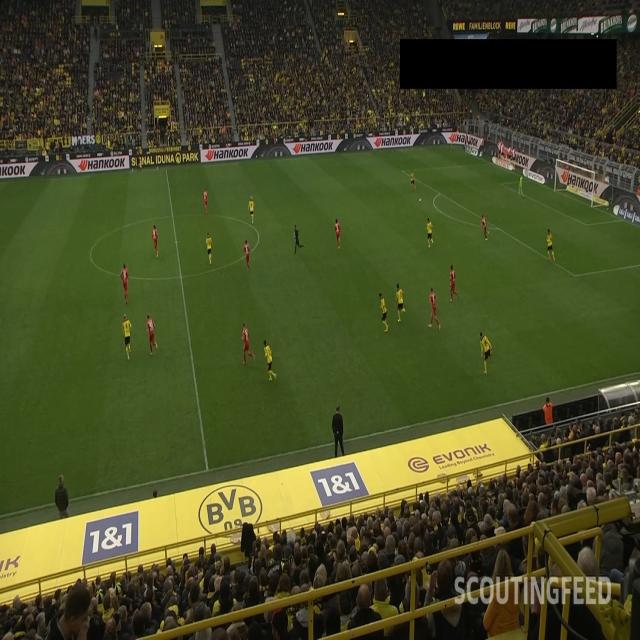ball: (418, 198, 422, 204)
